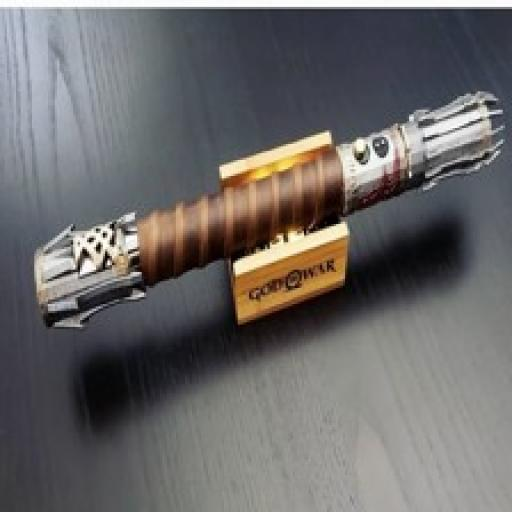lightsaber: (26, 88, 509, 337)
